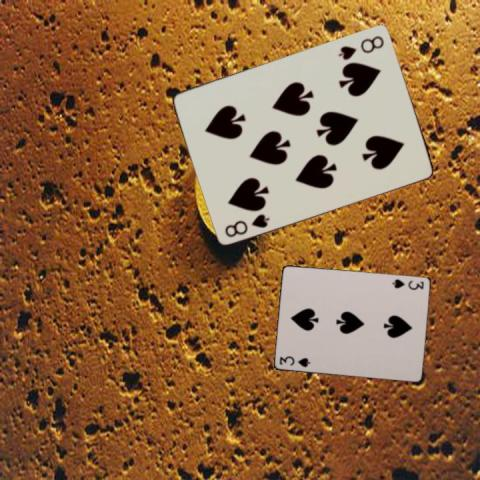3s: (390, 276, 425, 291), (277, 353, 311, 368)
8s: (336, 32, 386, 61), (222, 210, 271, 239)
